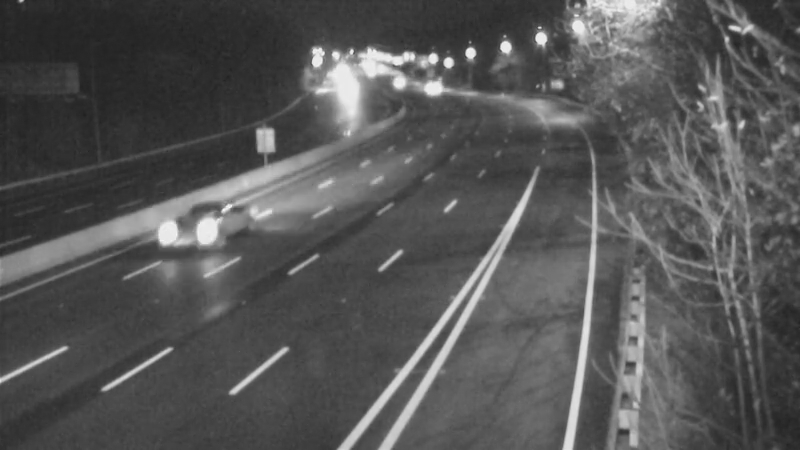vehicle: (146, 189, 226, 269), (374, 59, 424, 109), (408, 64, 458, 114)
